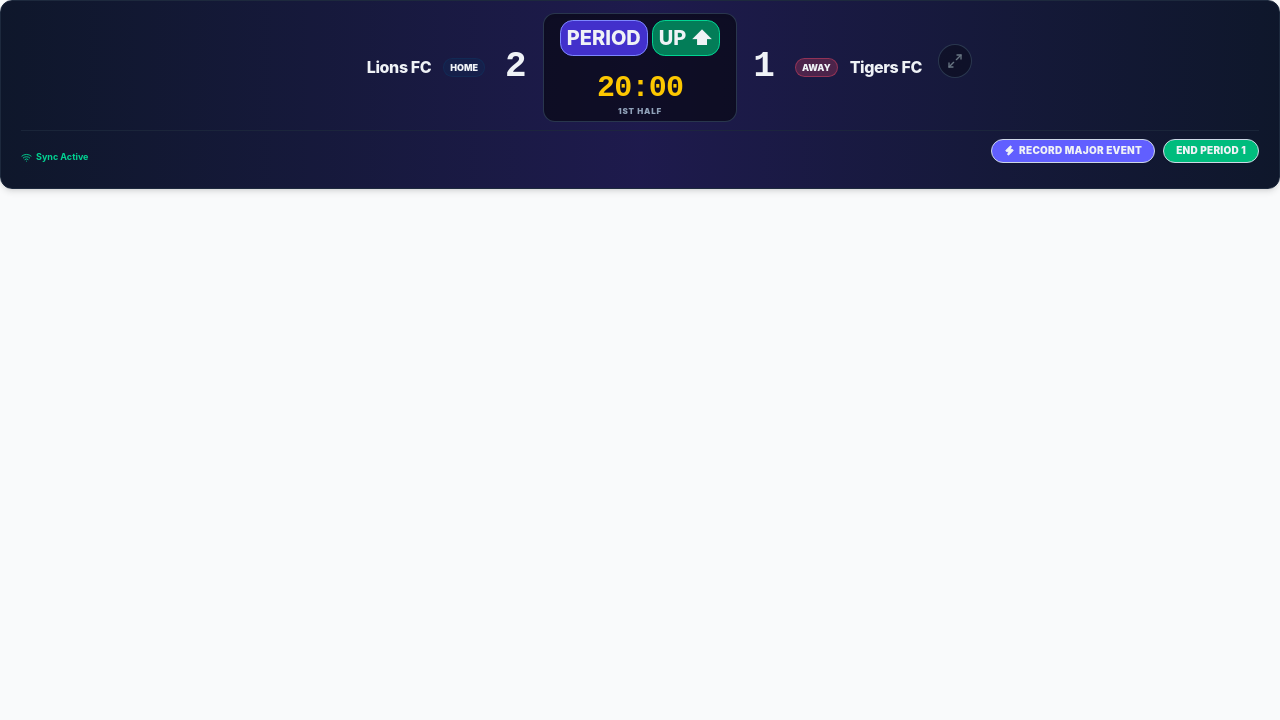
BroadcastScoreboard › prompts for confirmation when ending period before scheduled duration
Step 1. Click the button "End Period 1" → coordinates (1211, 151), box left=1163, top=139, right=1259, bottom=163
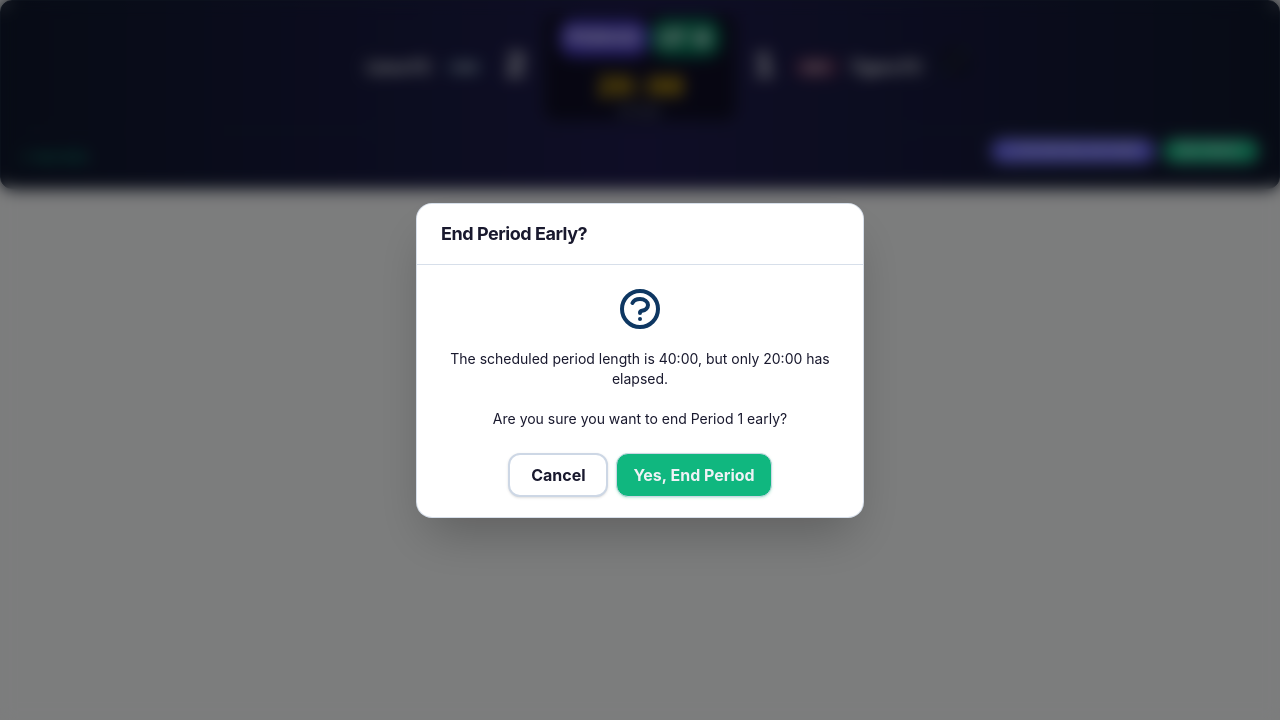
Expected: the heading "End Period Early?" is shown, left=441, top=222, right=587, bottom=244
Expected: the text "Are you sure you want to end Period" is shown, left=450, top=350, right=830, bottom=426
